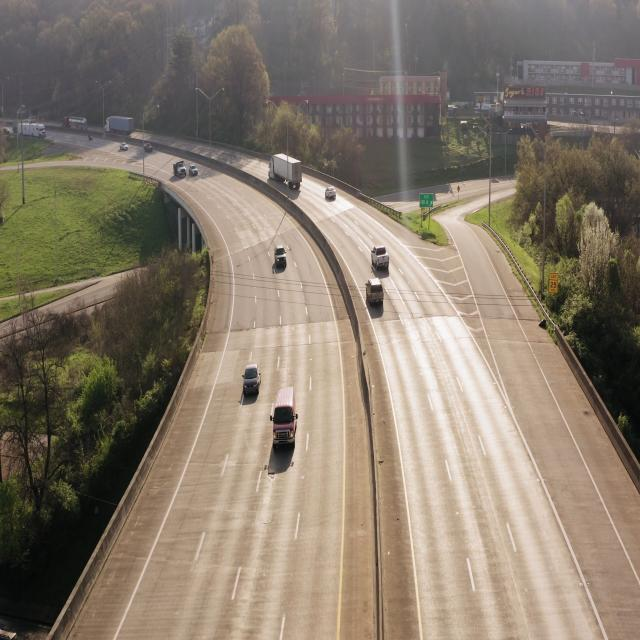Car: (272, 387, 300, 453), (268, 149, 304, 194), (241, 359, 264, 404), (362, 277, 386, 311), (368, 241, 392, 273), (274, 247, 288, 272), (324, 182, 338, 203)
